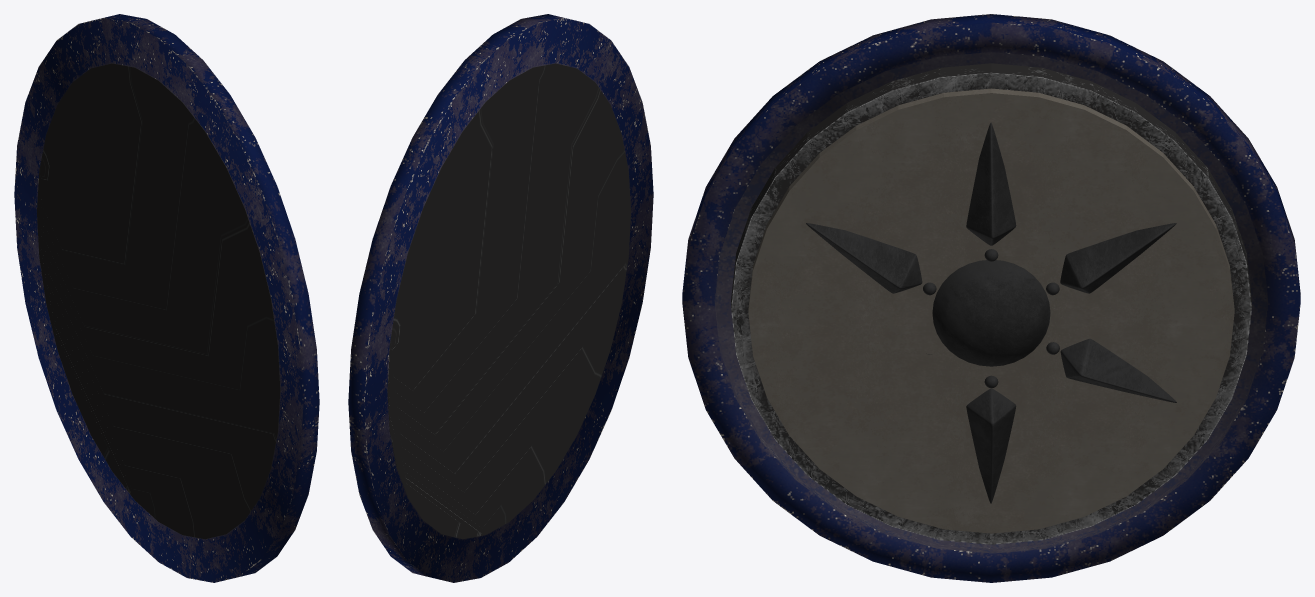
Rendered from Escudo_pintado1.glb.
3 views of the same model, side by side, from view 1: azimuth 30°, elevation 25°; view 2: azimuth 150°, elevation 25°; view 3: azimuth 270°, elevation 25° (orthographic). The views are drawn at different scales.
Visible parts, largest first — view 1: Mediano1, Grande1; view 2: Mediano1, Grande1; view 3: Pequeño1, Grande1, Mediano1, Pico1, Centro1.
Boxes of the visible parts, x1,y1,x2,y2 form: Mediano1: [37, 63, 280, 539]; Grande1: [14, 14, 319, 582]; Mediano1: [387, 63, 630, 539]; Grande1: [348, 14, 653, 582]; Pequeño1: [748, 88, 1234, 533]; Grande1: [682, 14, 1300, 582]; Mediano1: [731, 63, 1251, 544]; Pico1: [806, 122, 1176, 503]; Centro1: [923, 249, 1059, 388].
Size of the model in its own units: 1.88 by 13.6 by 13.6.
8 materials, 8 textured.
